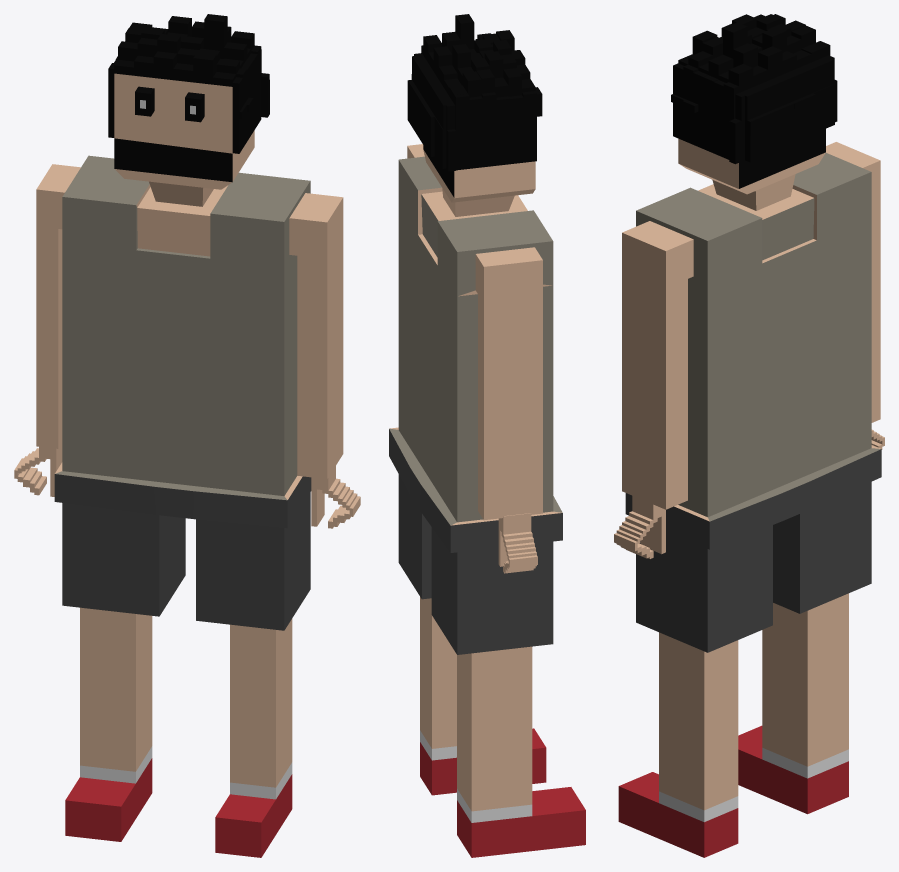
The model's file is Pokemon_Ansh.glb.
3 views of the same model, side by side, from view 1: azimuth 30°, elevation 25°; view 2: azimuth 150°, elevation 25°; view 3: azimuth 270°, elevation 25° (orthographic). The views are drawn at different scales.
Parts seen in each view (by area): view 1: Pokemon_Ansh; view 2: Pokemon_Ansh; view 3: Pokemon_Ansh.
Part boxes in pixels (x1,y1,x2,y2): Pokemon_Ansh: (14,14,360,857); Pokemon_Ansh: (389,14,585,857); Pokemon_Ansh: (614,14,884,857).
Bounding box in the file's own units: 3.95 × 12.87 × 3.95.
